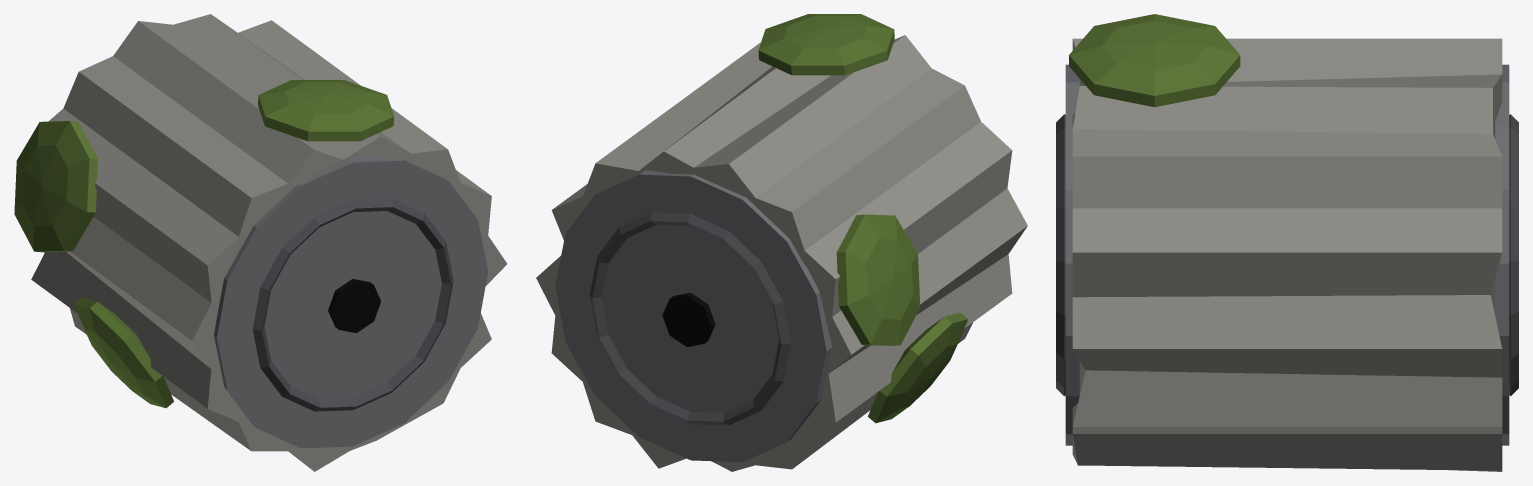
File: drum.glb
3 renders of one model, left to right at view 1: azimuth 30°, elevation 25°; view 2: azimuth 150°, elevation 25°; view 3: azimuth 270°, elevation 25°, orthographic. The views are drawn at different scales.
Parts seen in each view (by area): view 1: Drum; view 2: Drum; view 3: Drum.
Boxes of the visible parts, left/top/right/bottom form: Drum: left=14, top=14, right=507, bottom=471; Drum: left=536, top=14, right=1027, bottom=471; Drum: left=1056, top=14, right=1518, bottom=471.
Size of the model in its own units: 0.6716 by 0.6613 by 0.668.
